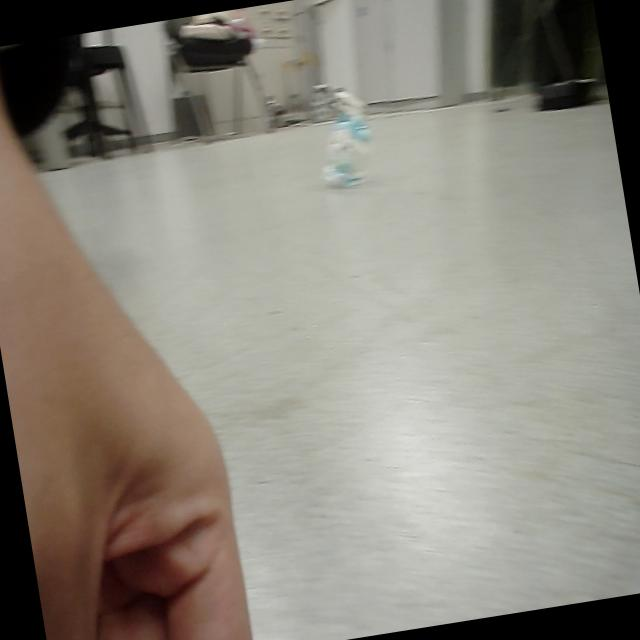xiaoba: (311, 108, 378, 195)
